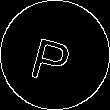P_N: (31, 26, 79, 84)
